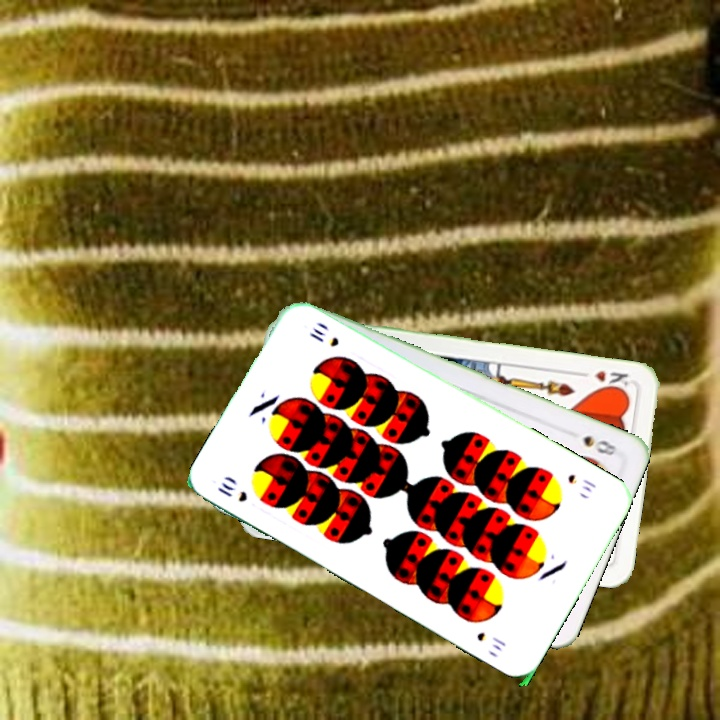HK: (590, 366, 634, 394)
S10: (213, 478, 250, 505), (563, 470, 599, 496)
S8: (579, 431, 620, 460)
